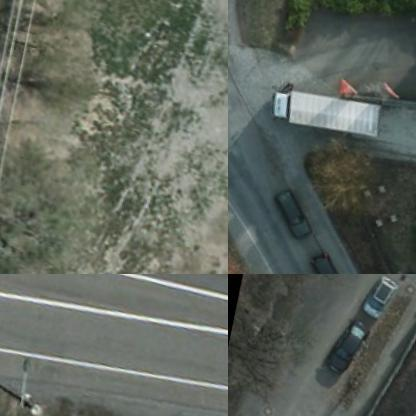car: (266, 176, 318, 235), (324, 308, 366, 372), (361, 274, 402, 319), (305, 238, 351, 273)
